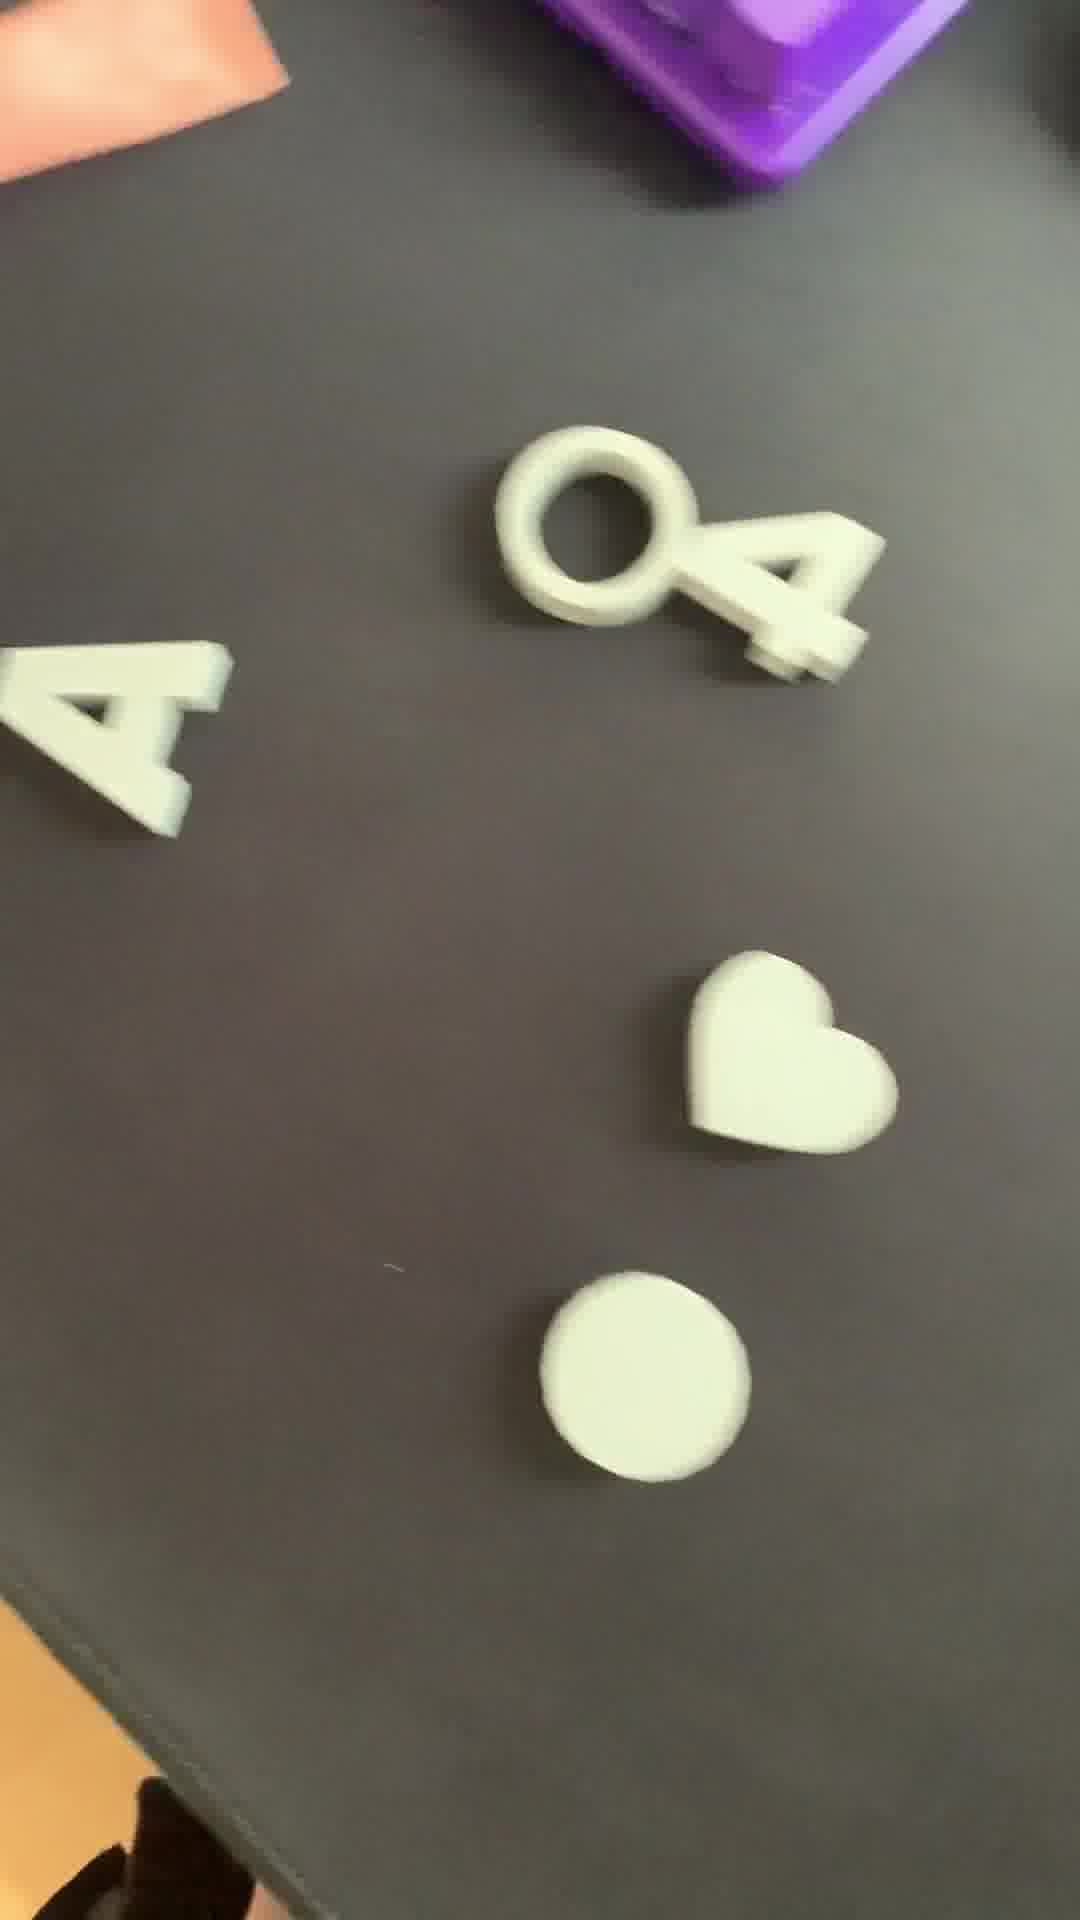Gray A-letter: (1, 634, 235, 847)
Gray circle: (545, 1276, 750, 1499)
Gray four: (678, 495, 907, 684)
Gray heart: (674, 942, 916, 1175)
Gray ring: (506, 429, 704, 615)
